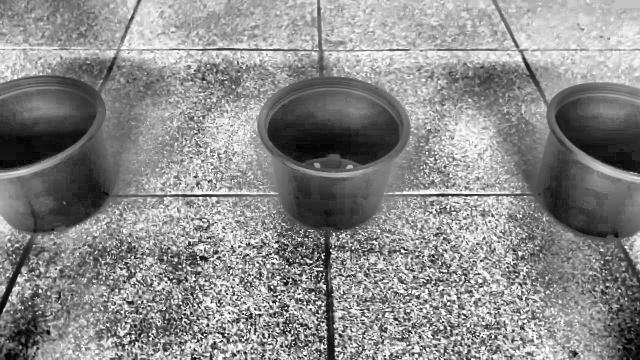pot: (258, 78, 410, 230), (0, 76, 114, 234), (535, 83, 640, 239)
